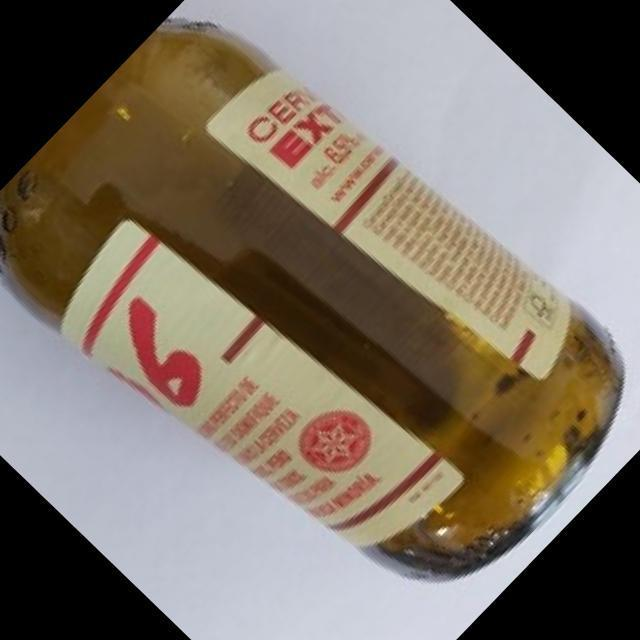Glass: (0, 19, 626, 584)
